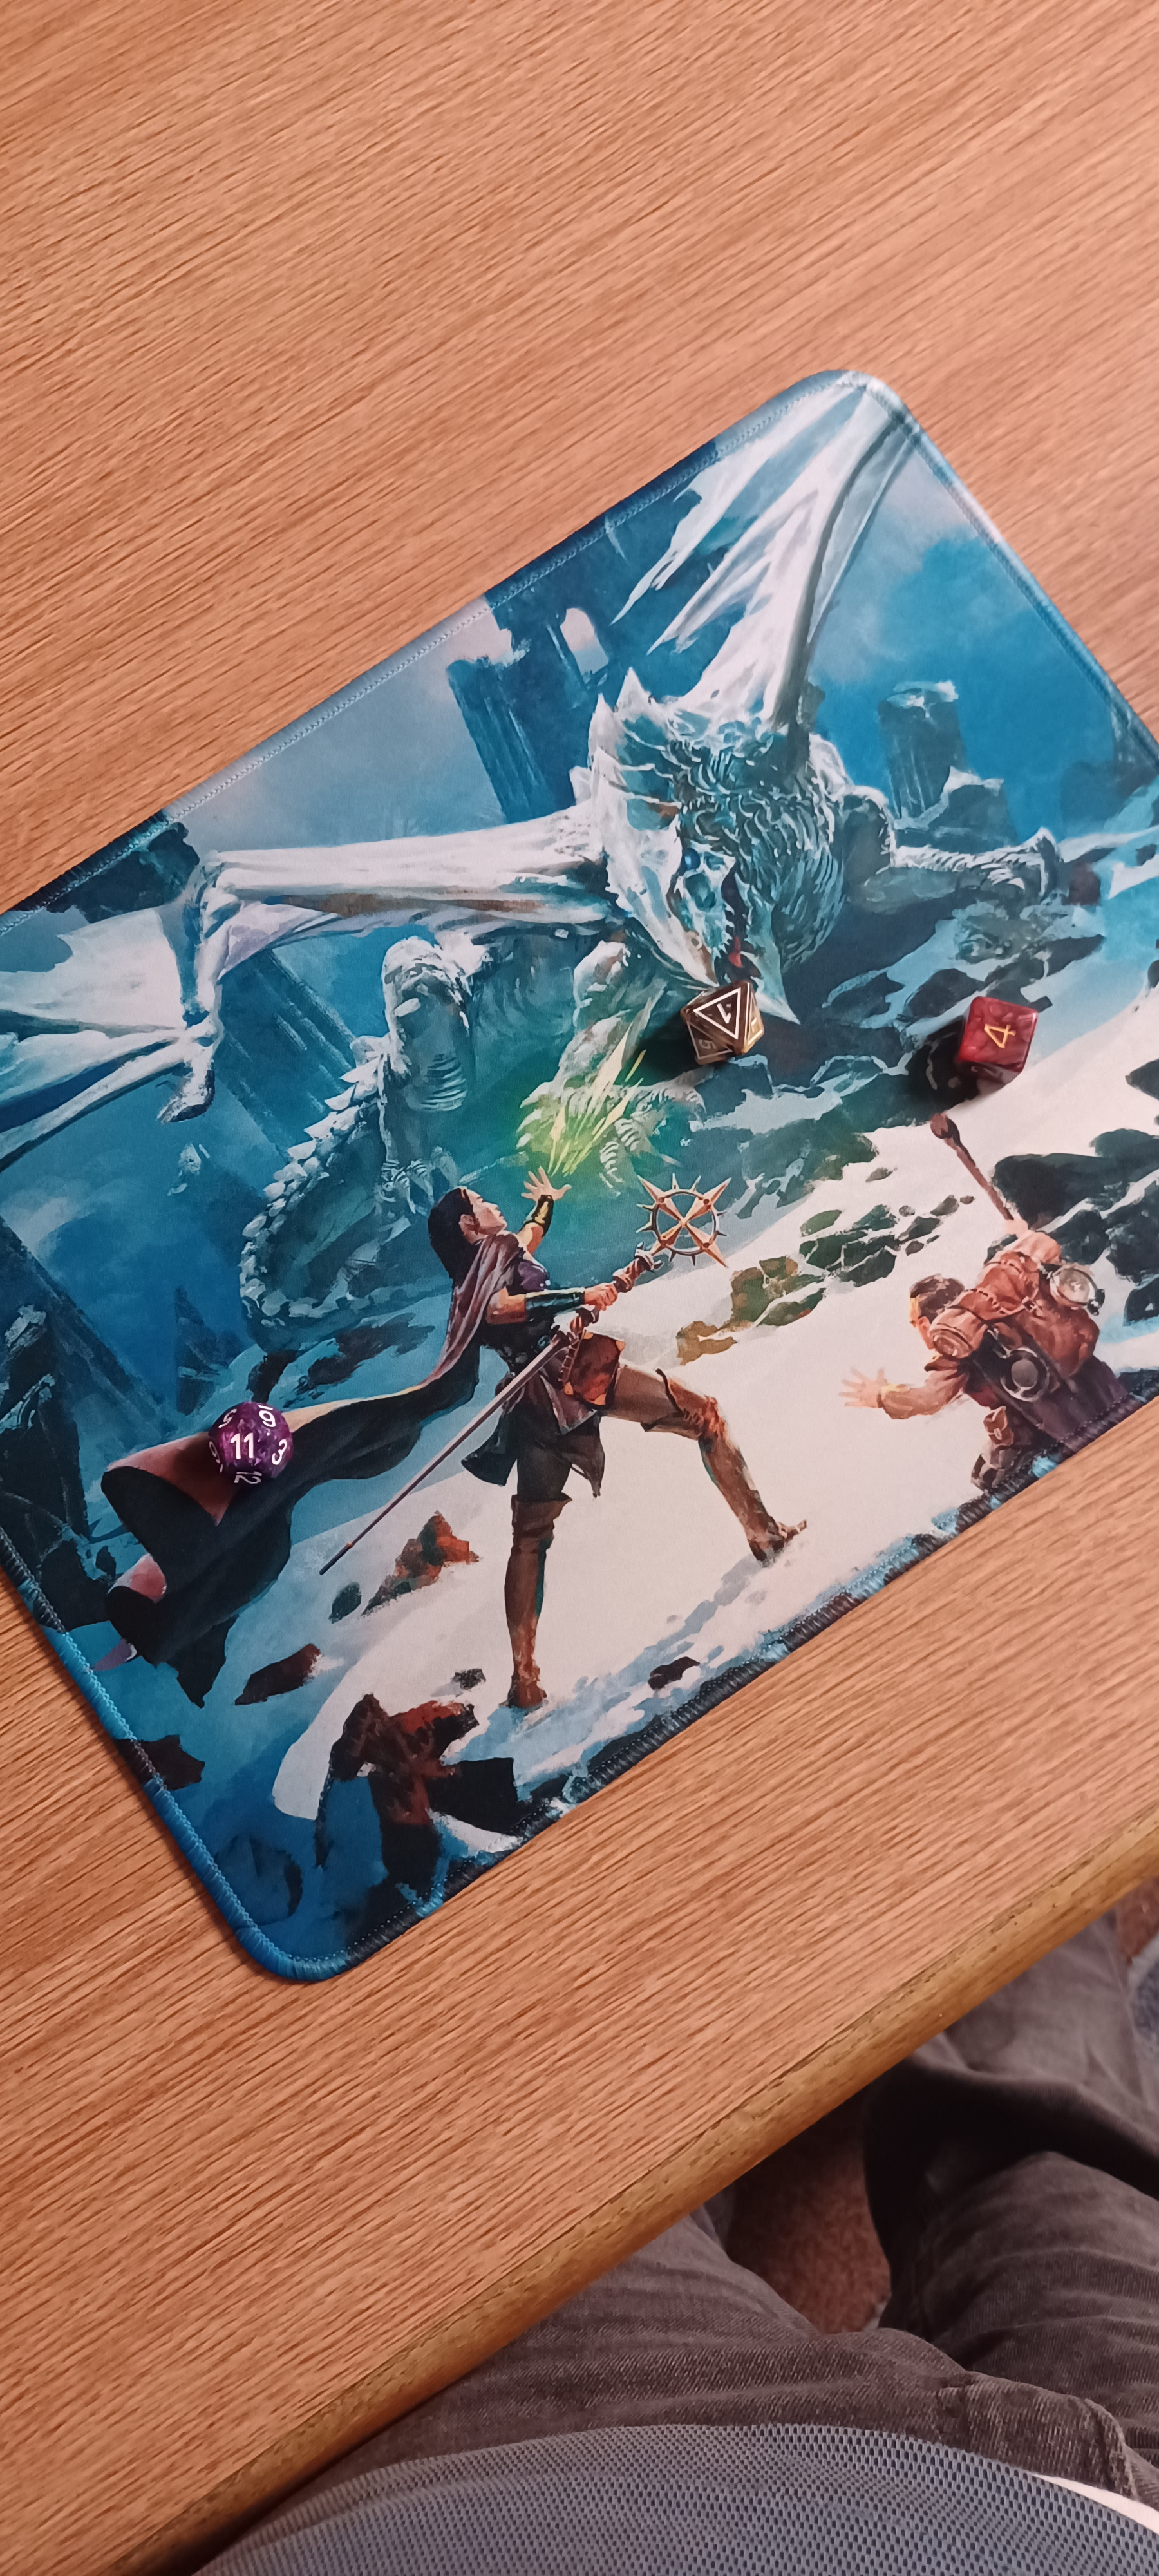eleven: (182, 1383, 315, 1503)
four: (926, 974, 1059, 1097)
one: (671, 963, 778, 1069)
